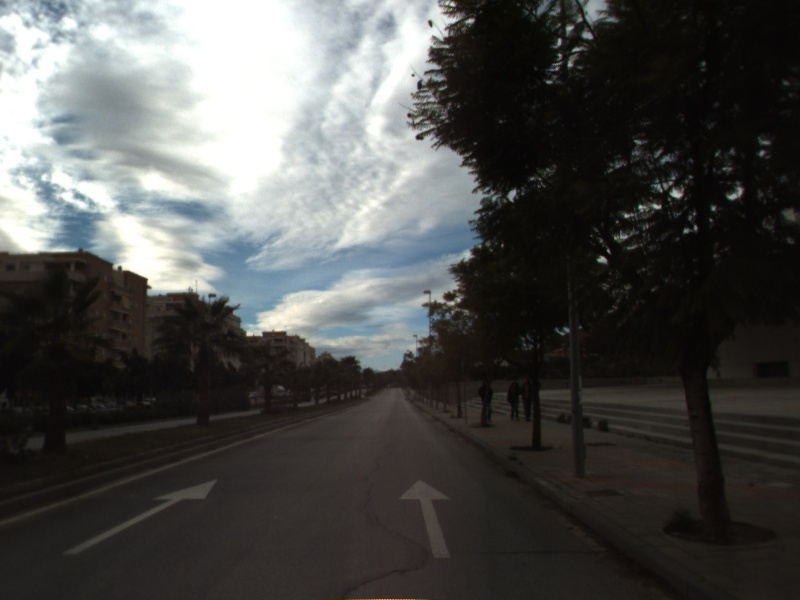STRAIGHT: (61, 477, 220, 556), (396, 478, 453, 560)
